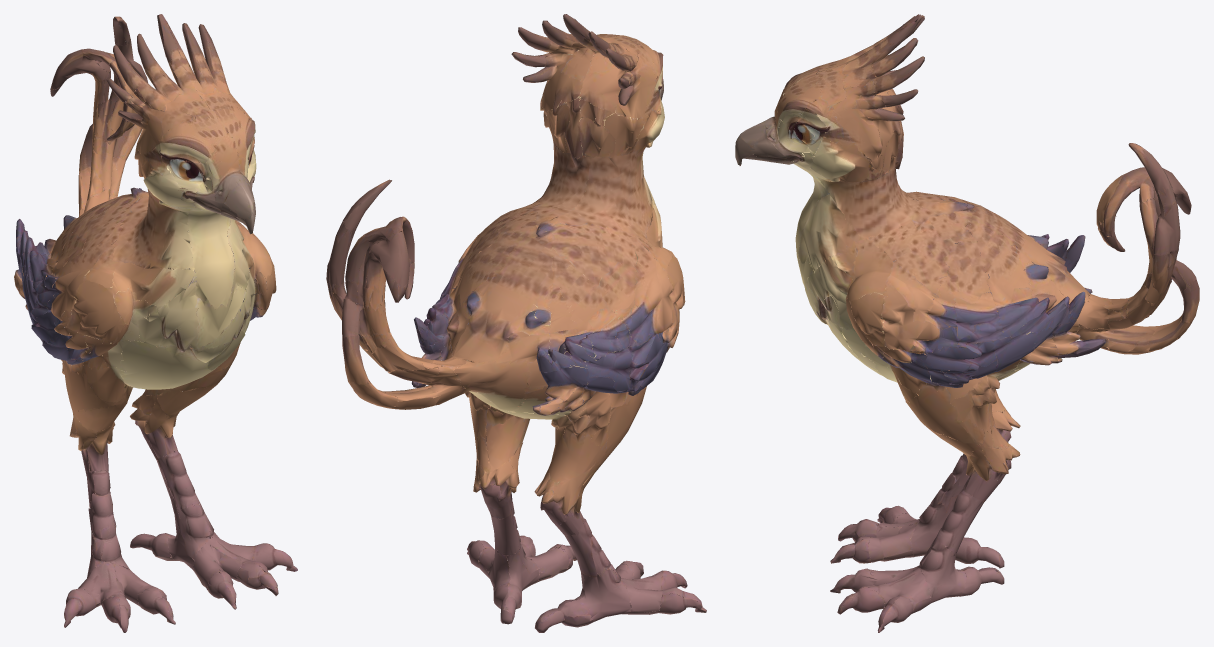
3 views of the same model, side by side, from view 1: azimuth 30°, elevation 25°; view 2: azimuth 150°, elevation 25°; view 3: azimuth 270°, elevation 25° (orthographic). The views are drawn at different scales.
Visible parts, largest first — view 1: Mesh_0; view 2: Mesh_0; view 3: Mesh_0.
Part boxes in pixels (x1=…): Mesh_0: x1=14, y1=14, x2=297, y2=632; Mesh_0: x1=326, y1=14, x2=706, y2=632; Mesh_0: x1=735, y1=14, x2=1199, y2=632.
Bounding box in the file's own units: 0.8106 × 1.89 × 1.41.
1 material, 1 textured.
